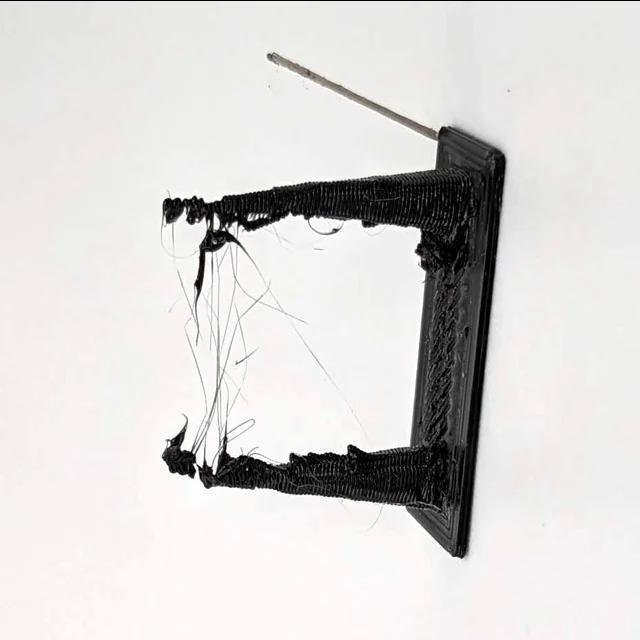stringing: (184, 208, 250, 460)
